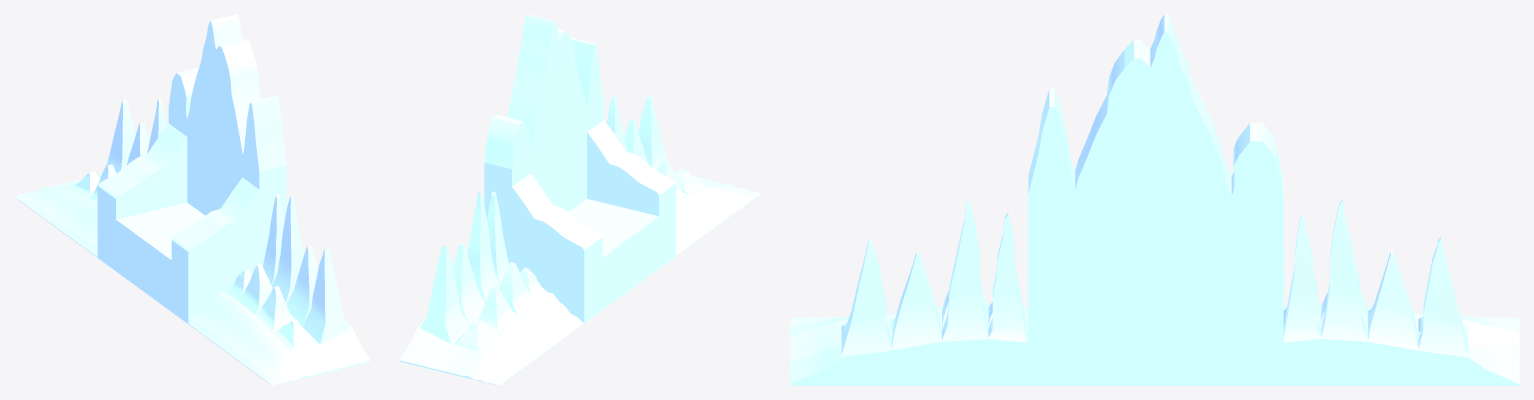
The model's file is throne.fbx.
The picture shows the model from 3 angles, left to right: view 1: azimuth 30°, elevation 25°; view 2: azimuth 150°, elevation 25°; view 3: azimuth 270°, elevation 25°; orthographic projection. The views are drawn at different scales.
Parts seen in each view (by area): view 1: throne; view 2: throne; view 3: throne.
Boxes of the visible parts, x1=… form: throne: x1=14, y1=14, x2=370, y2=385; throne: x1=399, y1=14, x2=761, y2=385; throne: x1=790, y1=14, x2=1519, y2=385.
Size of the model in its own units: 122 by 297 by 555.
